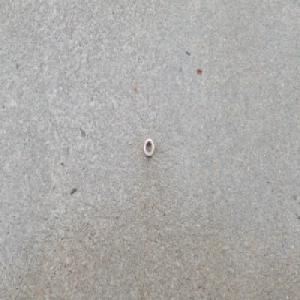Nut: (142, 137, 155, 157)
